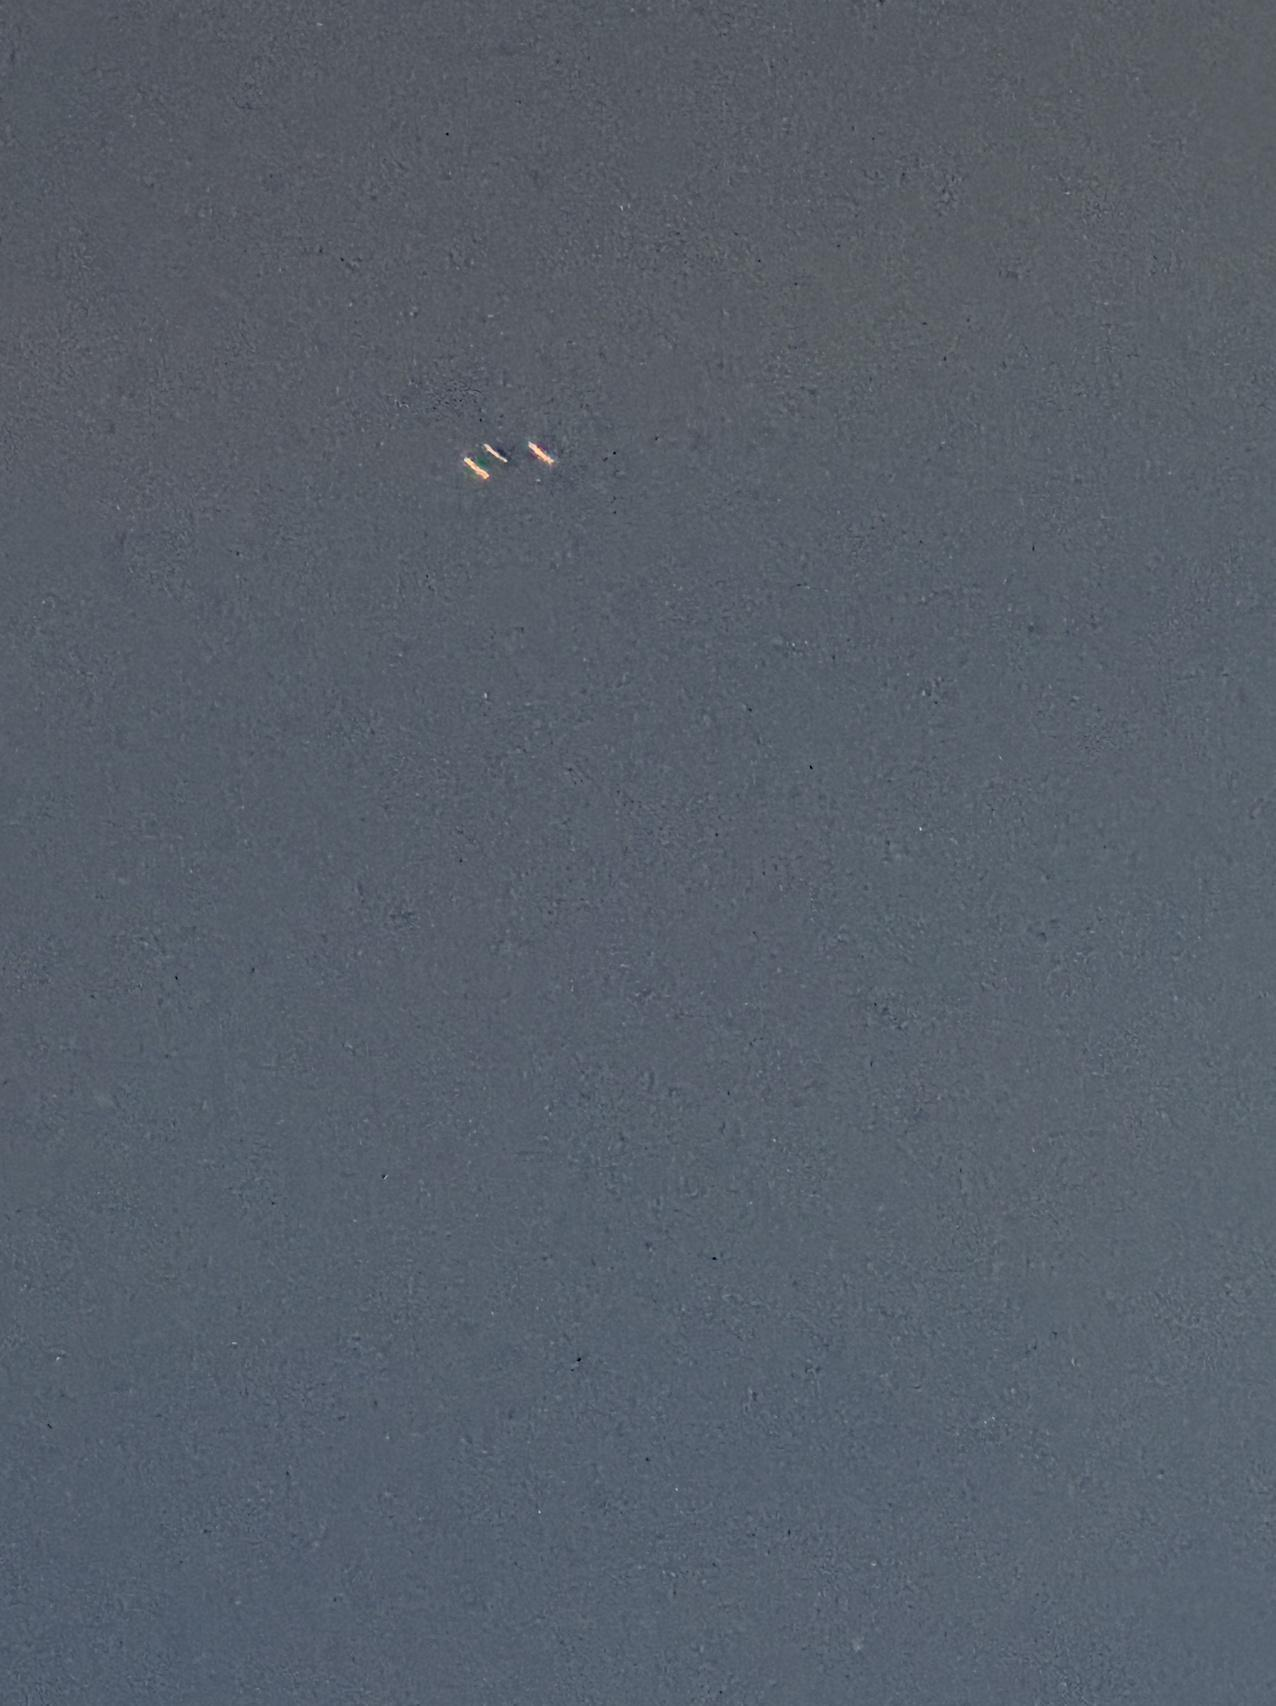Plane: (433, 423, 587, 495)
